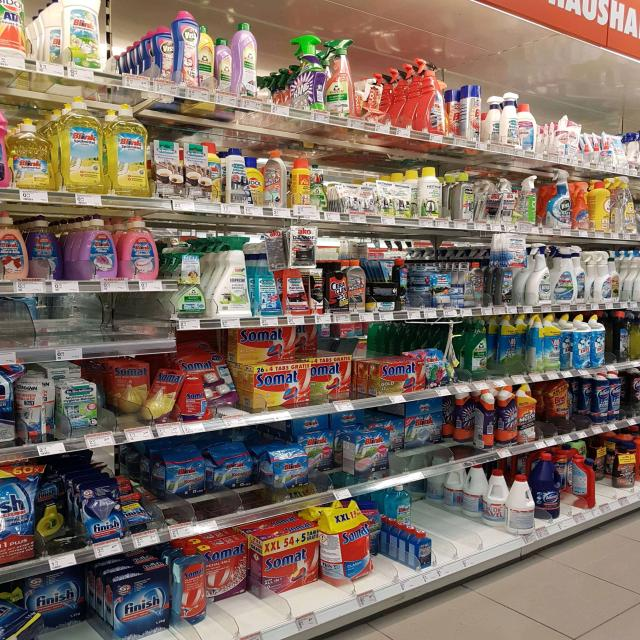void: (3, 296, 165, 348), (439, 472, 502, 557), (116, 3, 167, 88)
